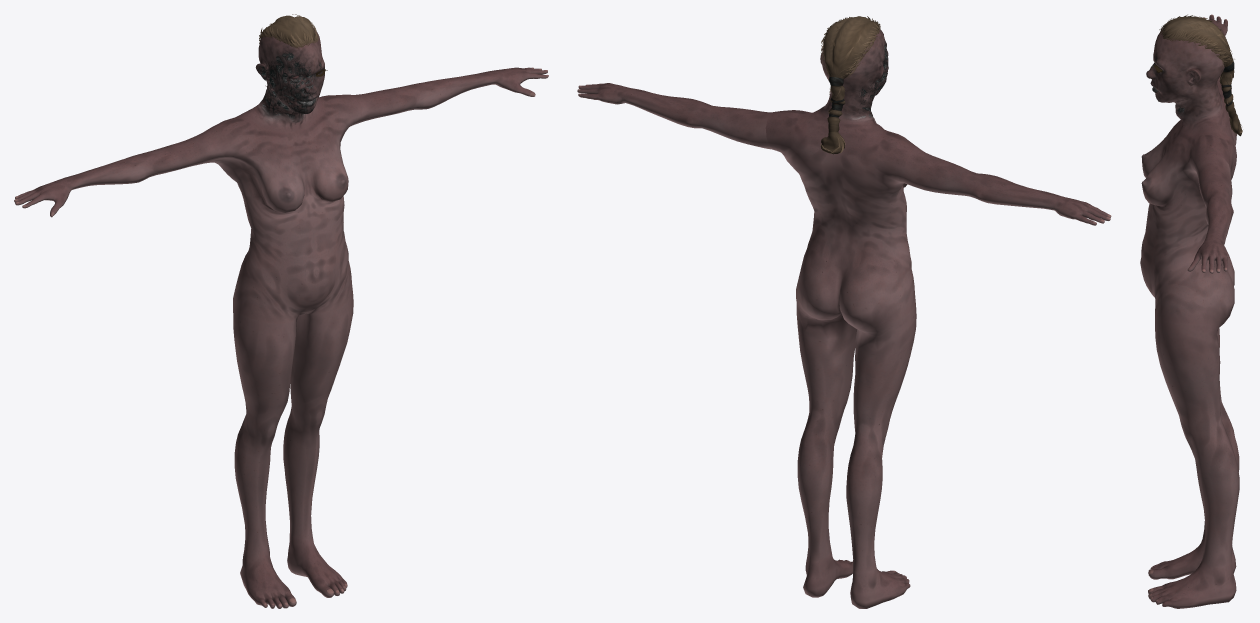
The model's file is pelulcahombre2.obj.
The picture shows the model from 3 angles, left to right: view 1: azimuth 30°, elevation 25°; view 2: azimuth 150°, elevation 25°; view 3: azimuth 270°, elevation 25°; orthographic projection.
Parts seen in each view (by area): view 1: Body, Hair; view 2: Body, Hair; view 3: Body, Hair.
Boxes of the visible parts, x1,y1,x2,y2 form: Body: [14, 27, 548, 608]; Hair: [259, 14, 318, 86]; Body: [577, 29, 1111, 608]; Hair: [820, 16, 880, 154]; Body: [1140, 14, 1239, 608]; Hair: [1159, 14, 1242, 136].
Size of the model in its own units: 174 by 178 by 29.84.
Materials: 2 (2 with a texture image).
